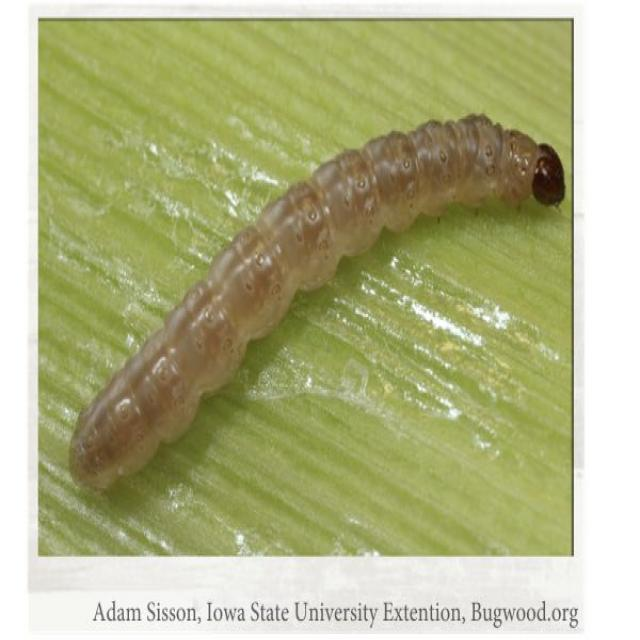cornborer-Larva-: (49, 107, 570, 498)
